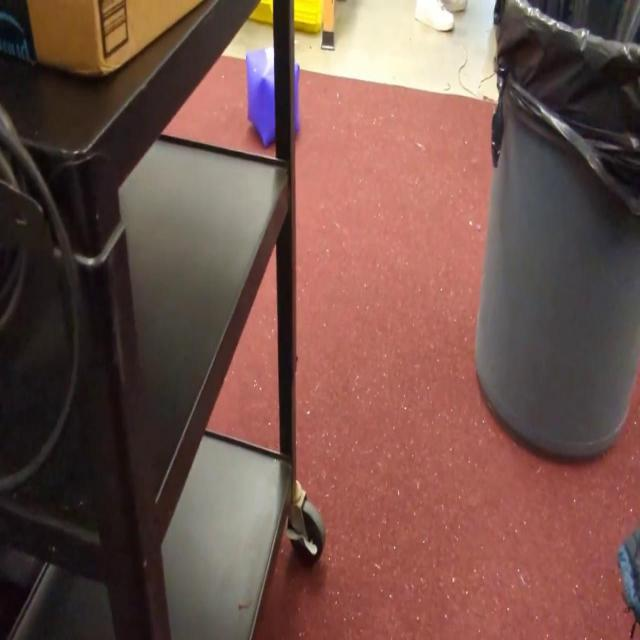frc_cube: (246, 45, 300, 145)
